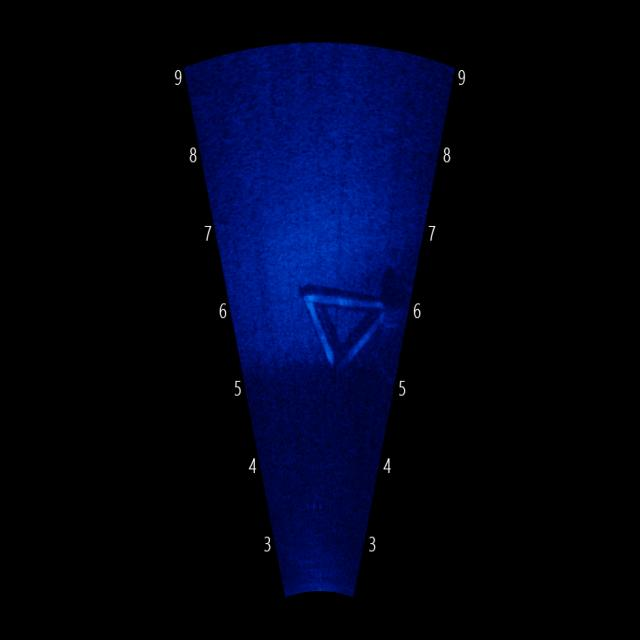triangle: (293, 280, 389, 389)
